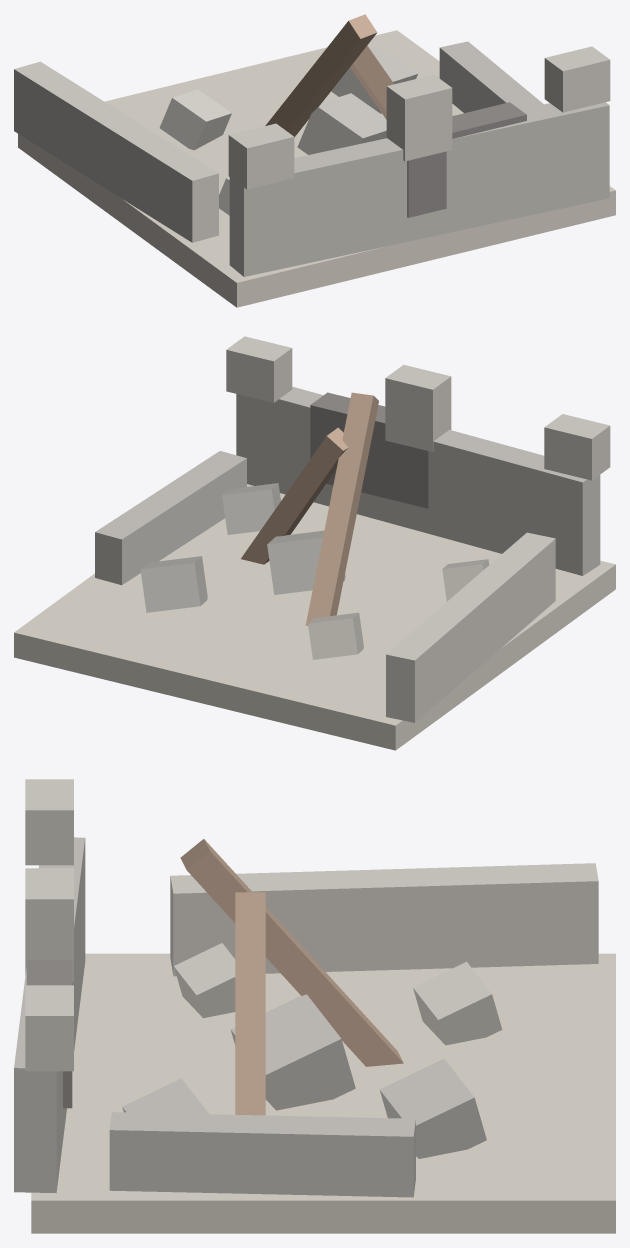
Rendered from building_burnt.glb.
The picture shows the model from 3 angles, top to bottom: view 1: azimuth 30°, elevation 25°; view 2: azimuth 150°, elevation 25°; view 3: azimuth 270°, elevation 25°; orthographic projection. The views are drawn at different scales.
Parts seen in each view (by area): view 1: building_burnt; view 2: building_burnt; view 3: building_burnt.
Boxes of the visible parts, left/top/right/bottom form: building_burnt: left=14, top=14, right=615, bottom=307; building_burnt: left=14, top=336, right=615, bottom=750; building_burnt: left=14, top=779, right=615, bottom=1233.
Size of the model in its own units: 0.9893 by 0.5824 by 0.9885.
